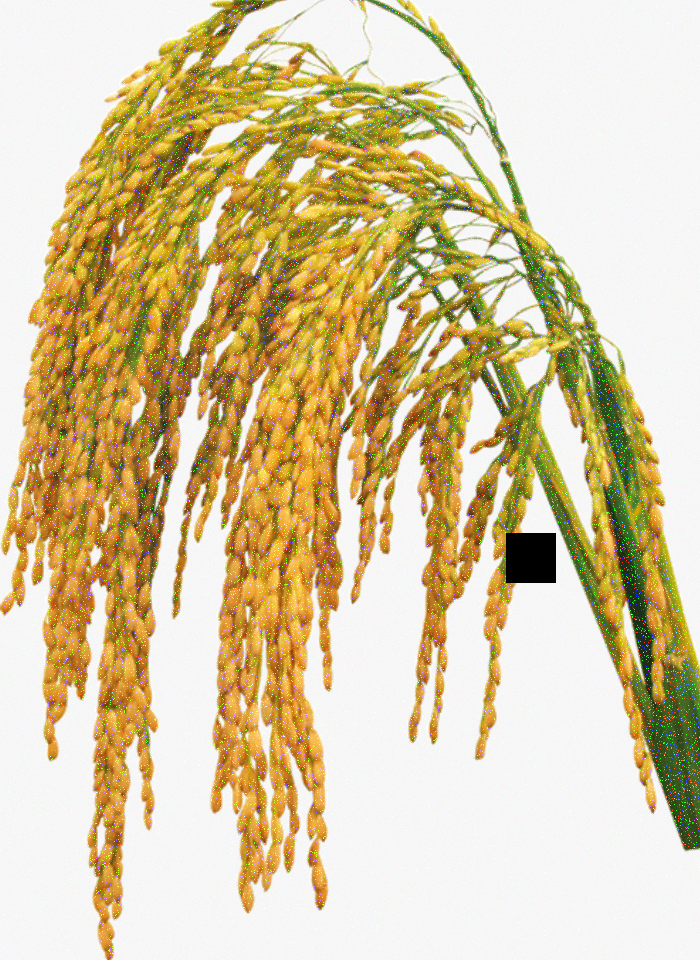rice: (6, 17, 495, 952)
